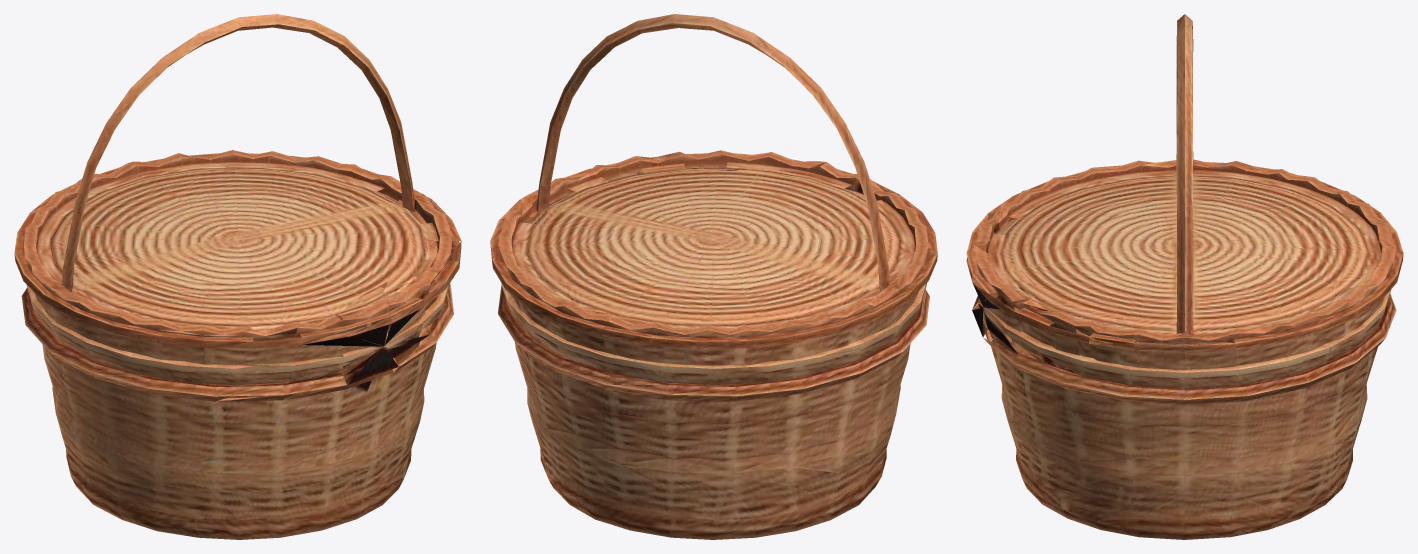
File: basket.glb
3 views of the same model, side by side, from view 1: azimuth 30°, elevation 25°; view 2: azimuth 150°, elevation 25°; view 3: azimuth 270°, elevation 25° (orthographic). The views are drawn at different scales.
Visible parts, largest first — view 1: Mesh_0; view 2: Mesh_0; view 3: Mesh_0.
Part boxes in pixels (x1,y1,x2,y2): Mesh_0: [14, 14, 461, 539]; Mesh_0: [490, 14, 937, 539]; Mesh_0: [966, 14, 1403, 539].
Bounding box in the file's own units: 39.59 × 44 × 39.46.
Materials: 1 (1 with a texture image).
